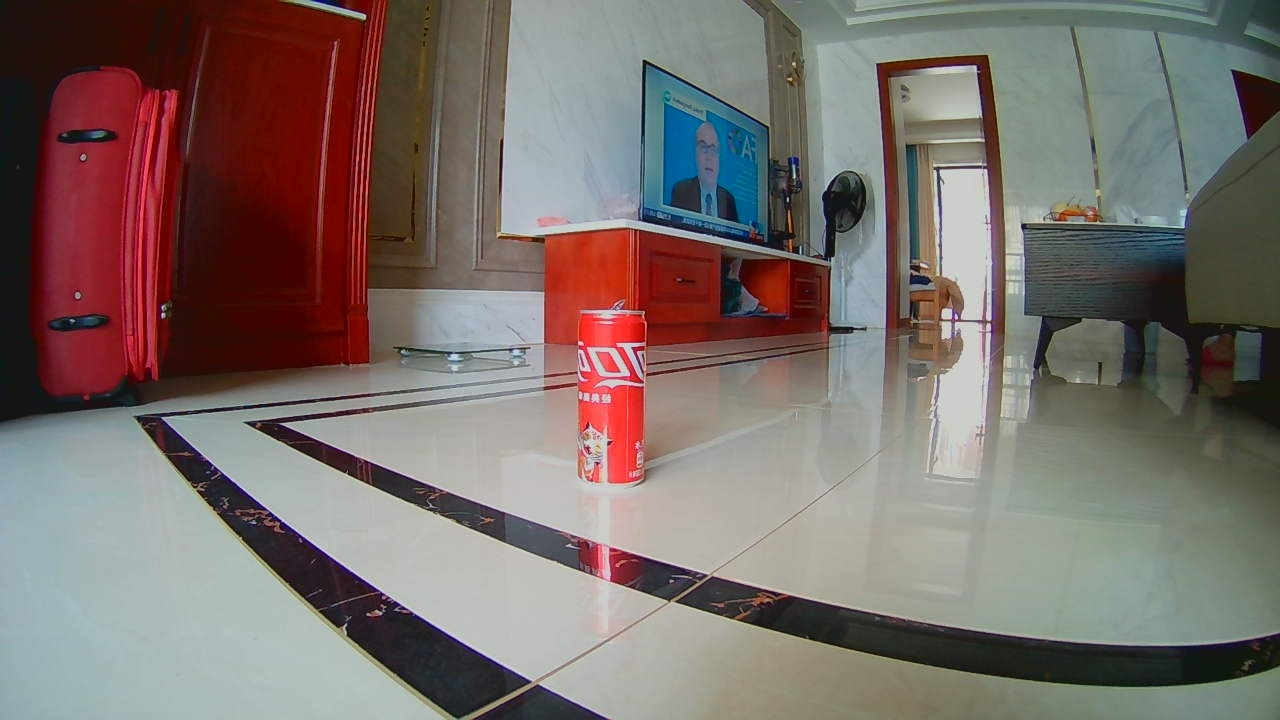cola: (573, 305, 644, 485)
